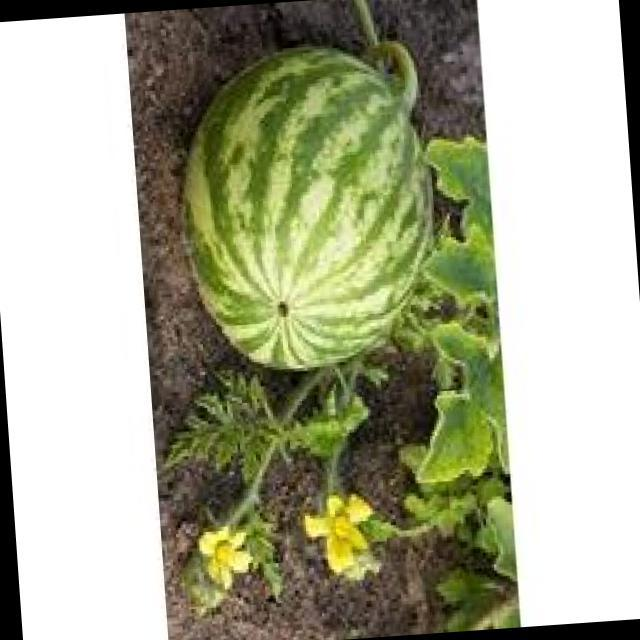watermelon: (185, 43, 431, 370)
